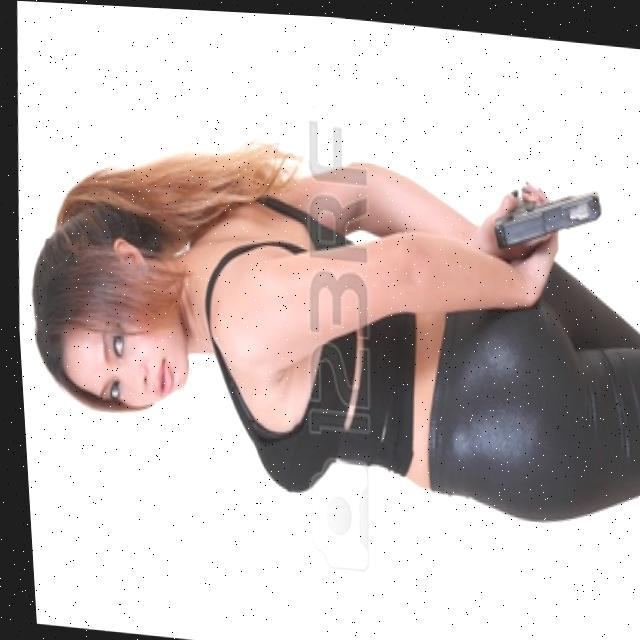pistol: (487, 173, 604, 254)
